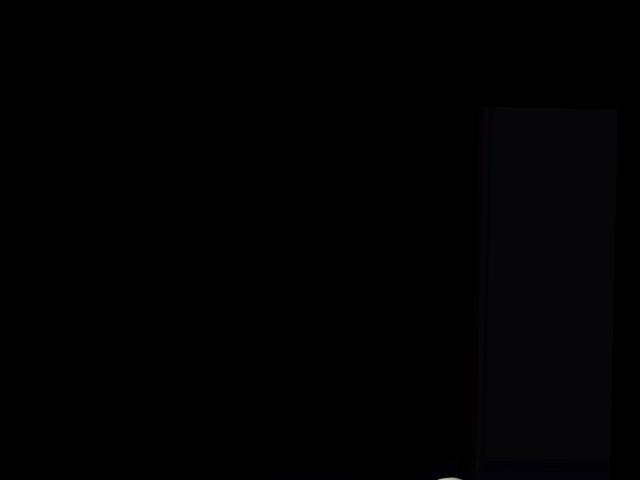egg: (420, 477, 474, 480)
